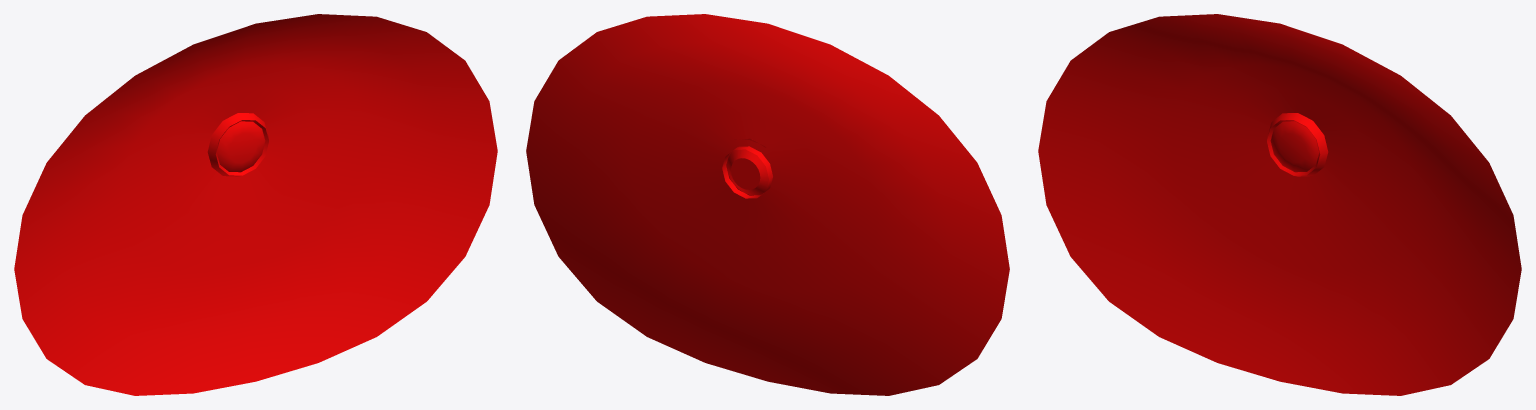
File: MeshPsSinkbasin_16_1.obj
3 views of the same model, side by side, from view 1: azimuth 30°, elevation 25°; view 2: azimuth 150°, elevation 25°; view 3: azimuth 330°, elevation 25° (orthographic).
Parts seen in each view (by area): view 1: PsSinkbasin_16; view 2: PsSinkbasin_16; view 3: PsSinkbasin_16.
Part boxes in pixels (<box>): PsSinkbasin_16: <box>14,14,497,395</box>; PsSinkbasin_16: <box>526,14,1009,395</box>; PsSinkbasin_16: <box>1038,14,1521,395</box>.
Bounding box in the file's own units: 0.4932 × 0.3489 × 0.0395.
